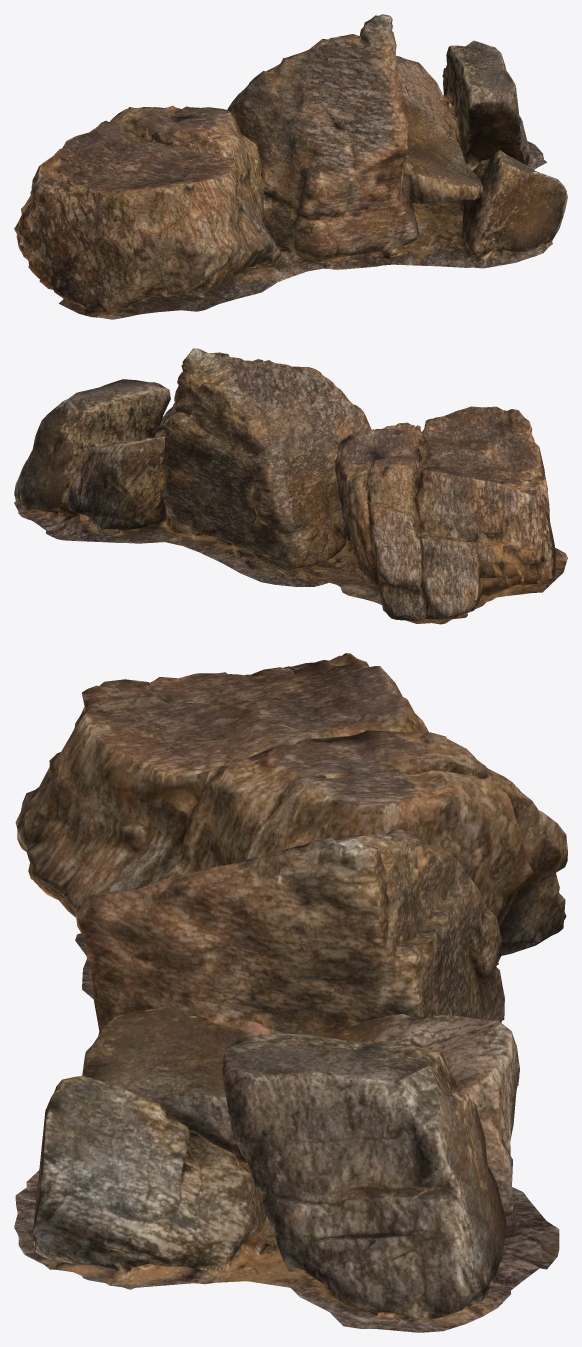
Rendered from namaqualand_boulder_02.glb.
3 renders of one model, top to bottom at view 1: azimuth 30°, elevation 25°; view 2: azimuth 150°, elevation 25°; view 3: azimuth 270°, elevation 25°, orthographic. The views are drawn at different scales.
Visible parts, largest first — view 1: boulder_02; view 2: boulder_02; view 3: boulder_02.
Boxes of the visible parts, box(x1,y1,x2,y2) form: boulder_02: box(14, 14, 567, 319); boulder_02: box(14, 348, 567, 624); boulder_02: box(14, 653, 567, 1332).
Bounding box in the file's own units: 2.53 × 0.8804 × 1.23.
Materials: 1 (1 with a texture image).
